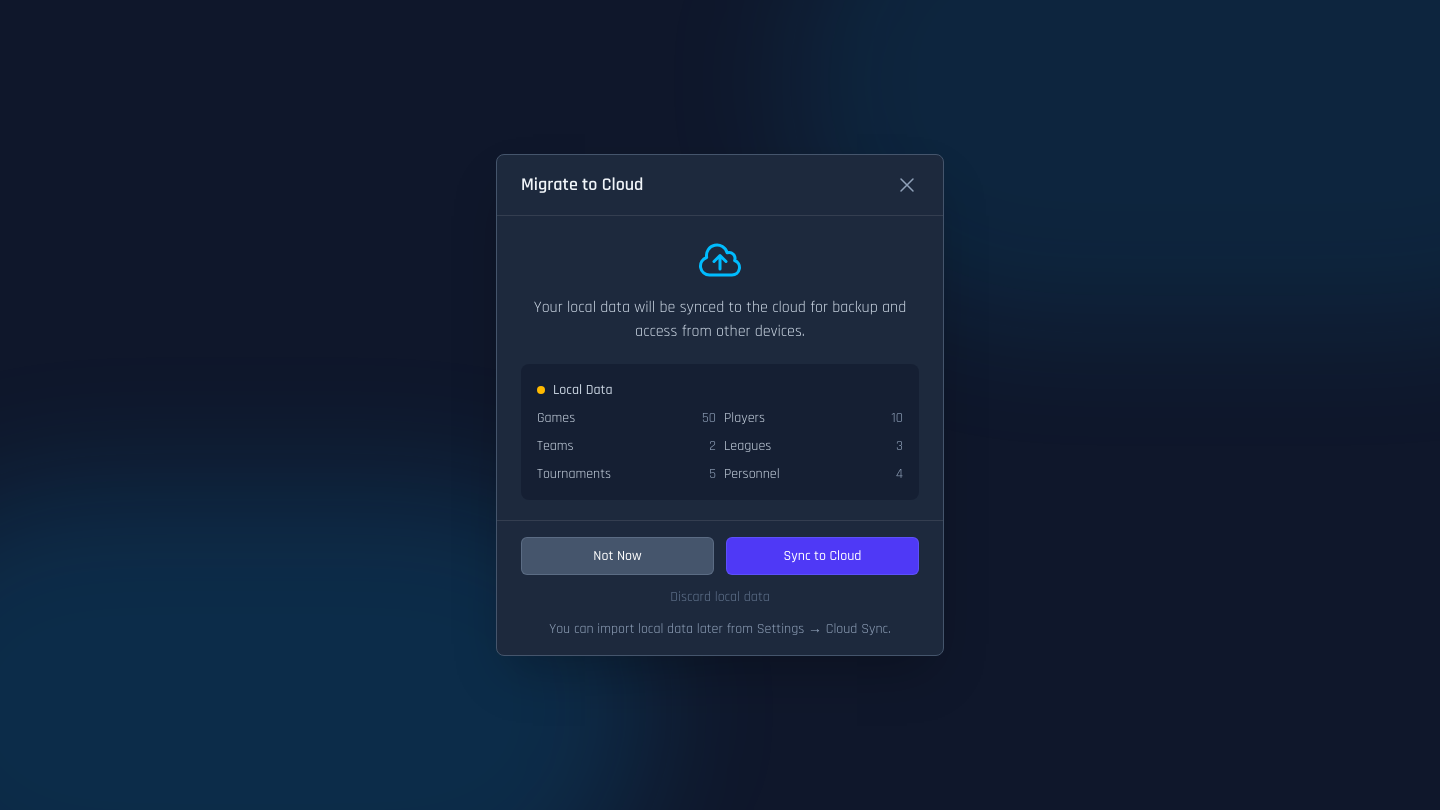
Scenario: MigrationWizard › shows error step when migration fails
Check: the heading "Local Data" is shown, box [537,381,612,399]
Click the button "Sync to Cloud".
click(822, 556)  # box [726,537,919,575]
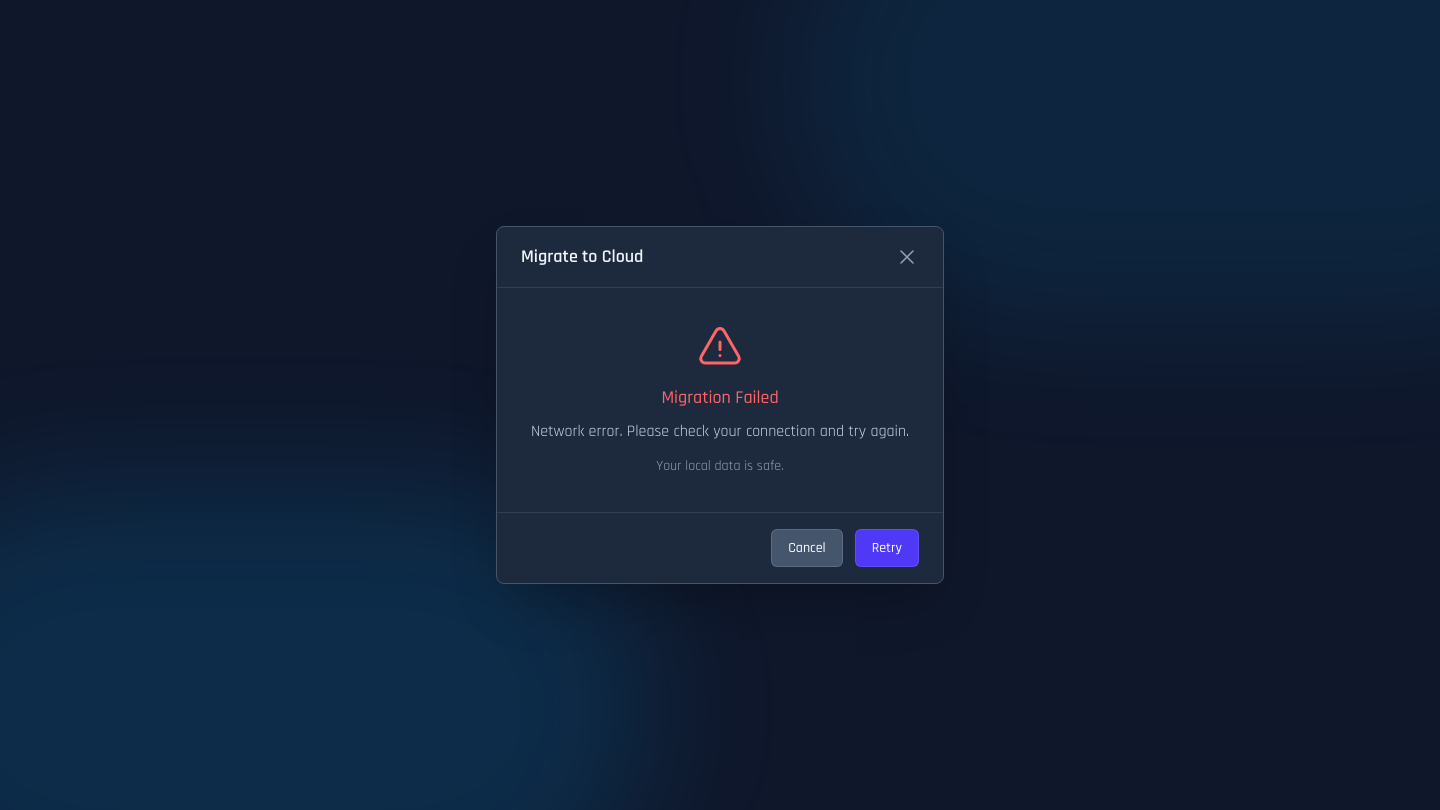
Check: the text "Migration Failed" is shown, box [661,386,779,409]
Check: the text "Network error. Please check your connection and try again." is shown, box [521,420,919,444]
Check: the button "Retry" is shown, box [855,529,919,567]
